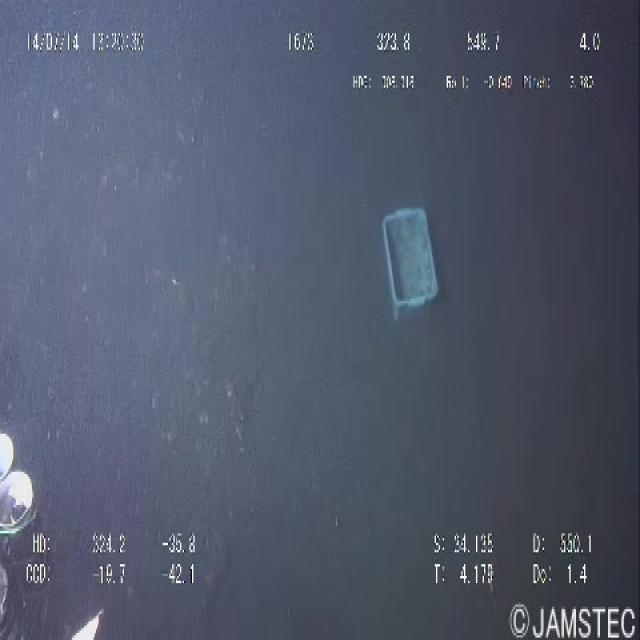plastic: (373, 180, 447, 346)
